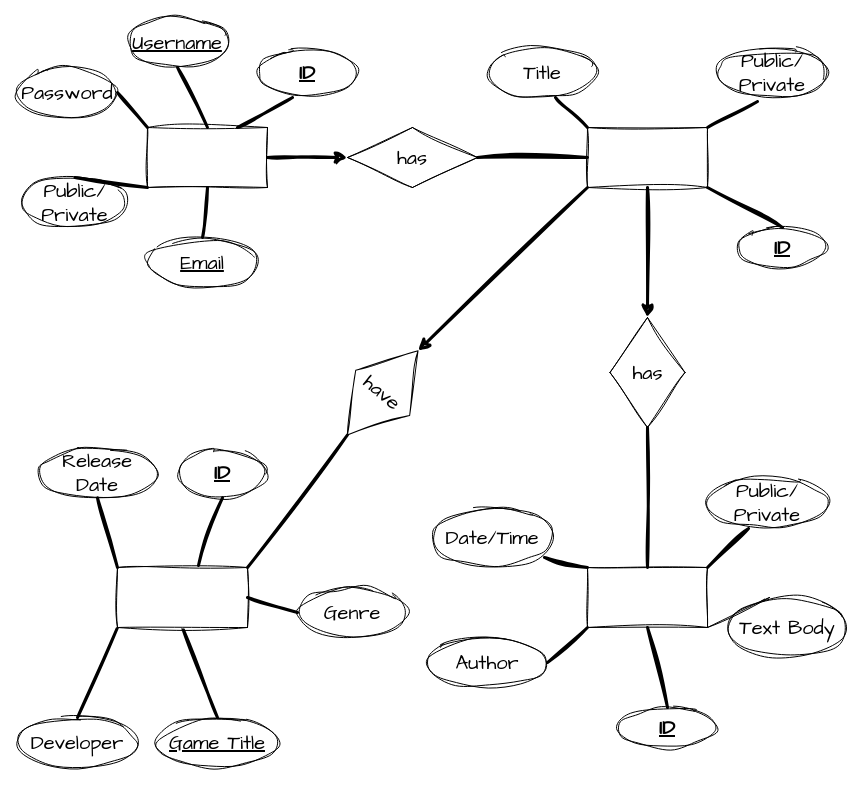
Image size: 865x785. Some labels were removed from this diagram. The centre of each missing label's shape, as x and y in pixels:
"Comments" belongs at pixel 647 597.
"Games" belongs at pixel 182 597.
"Lists" belongs at pixel 647 157.
"Users" belongs at pixel 207 157.
